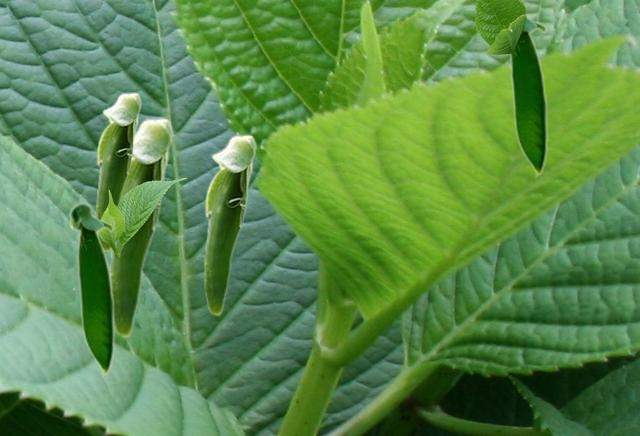pea: (108, 117, 173, 337), (203, 134, 256, 315), (68, 201, 114, 377), (95, 92, 141, 251), (508, 8, 547, 178)
